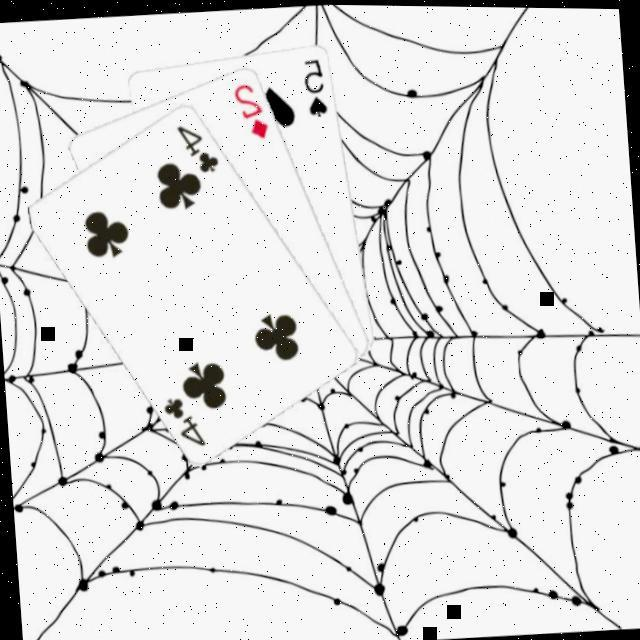2D: (228, 78, 270, 142)
4C: (171, 118, 221, 178), (157, 392, 207, 452)
5S: (297, 53, 330, 119)
